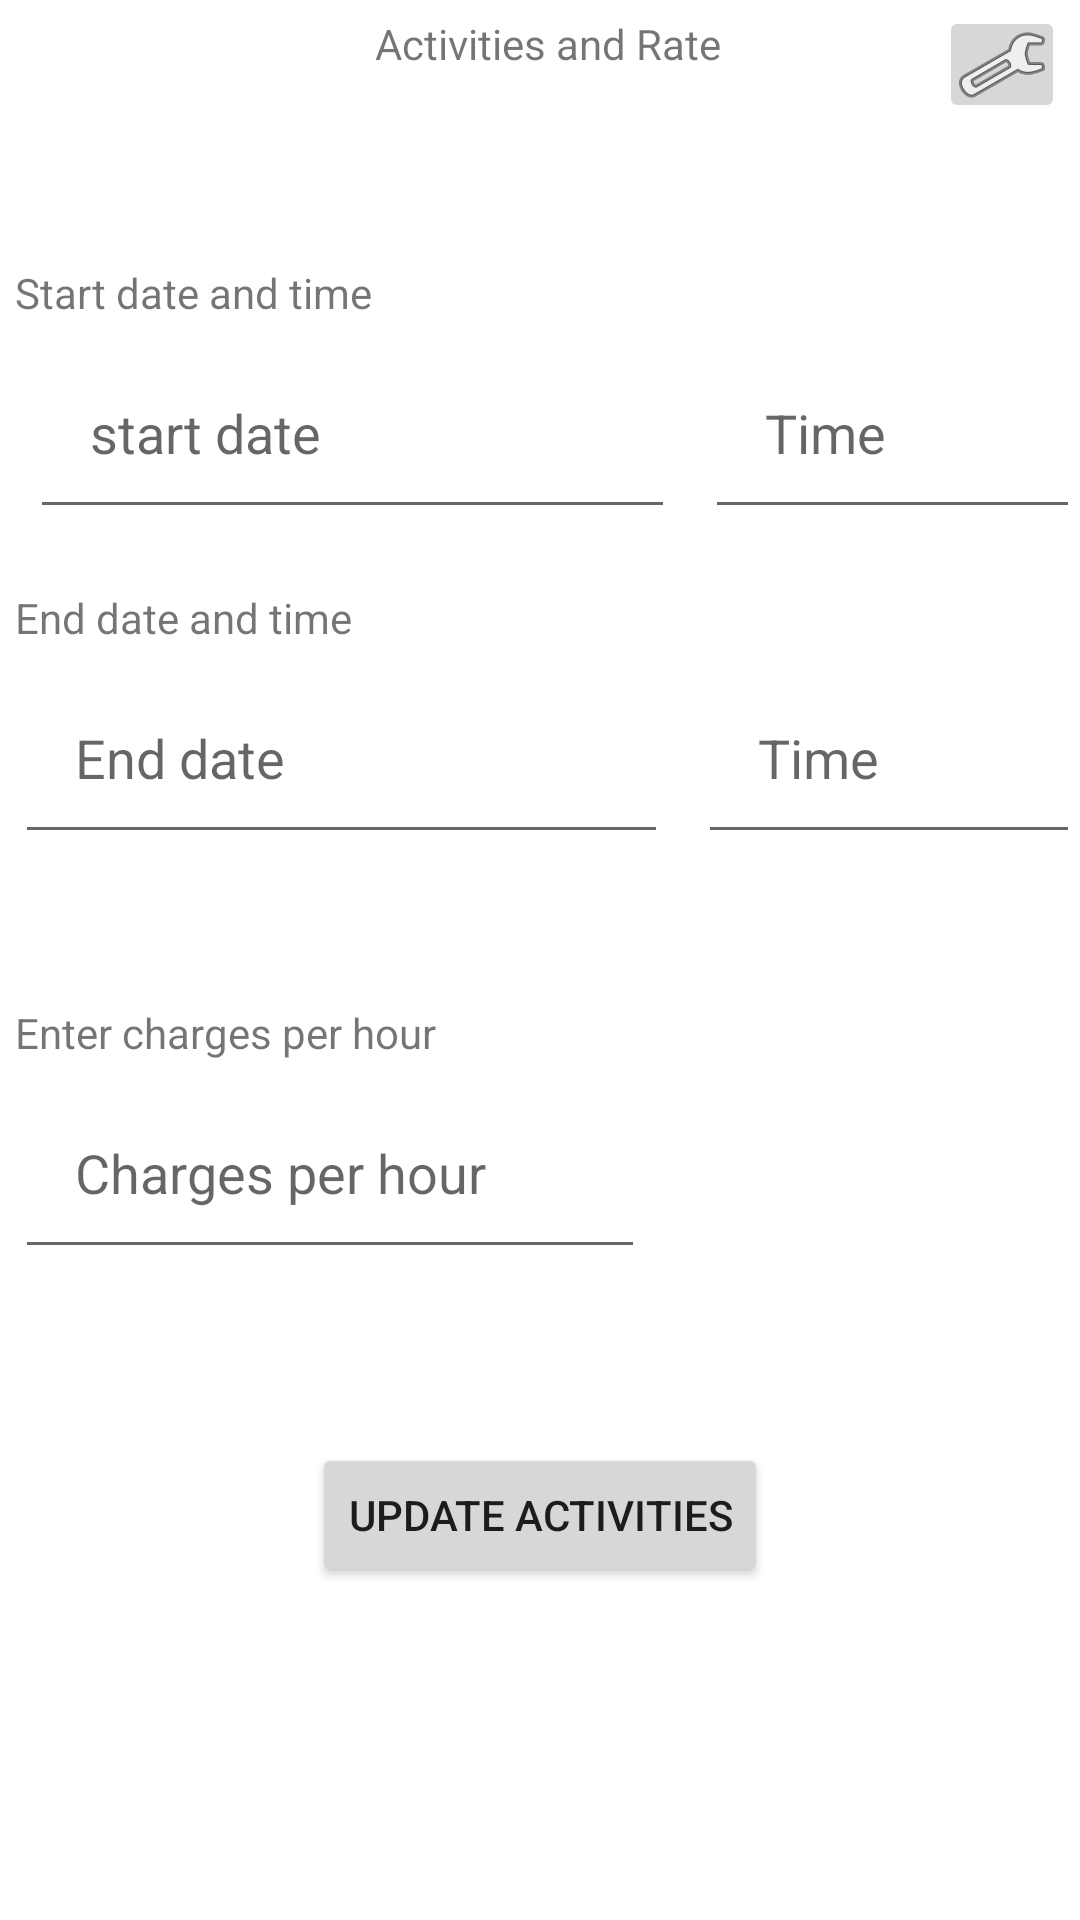

Icons on this 1080 × 1920 Android screen, each with the point to tap as point (x, y):
preferences: point (1002, 64)
